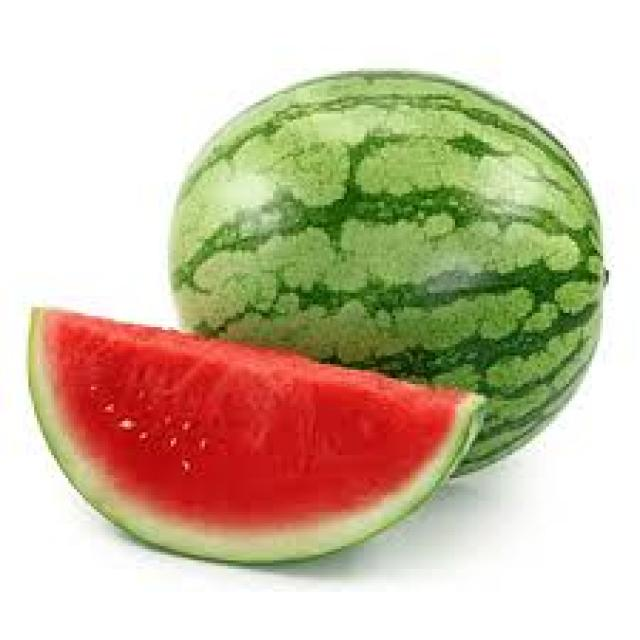watermelon: (165, 65, 609, 478), (23, 302, 486, 566)
